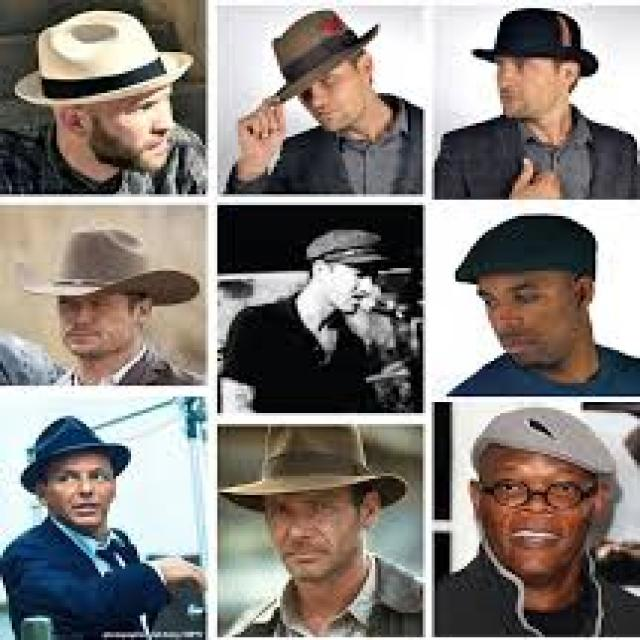cap: (0, 0, 196, 109), (0, 210, 199, 309), (250, 0, 405, 120), (220, 421, 411, 514), (0, 405, 137, 487), (458, 8, 602, 82), (304, 211, 408, 276)
